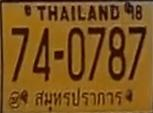0: (68, 26, 86, 81)
4: (32, 27, 51, 82)
7: (87, 25, 106, 81), (128, 26, 147, 80), (11, 27, 29, 82)
8: (107, 26, 126, 81)
SPK: (33, 86, 125, 111)
